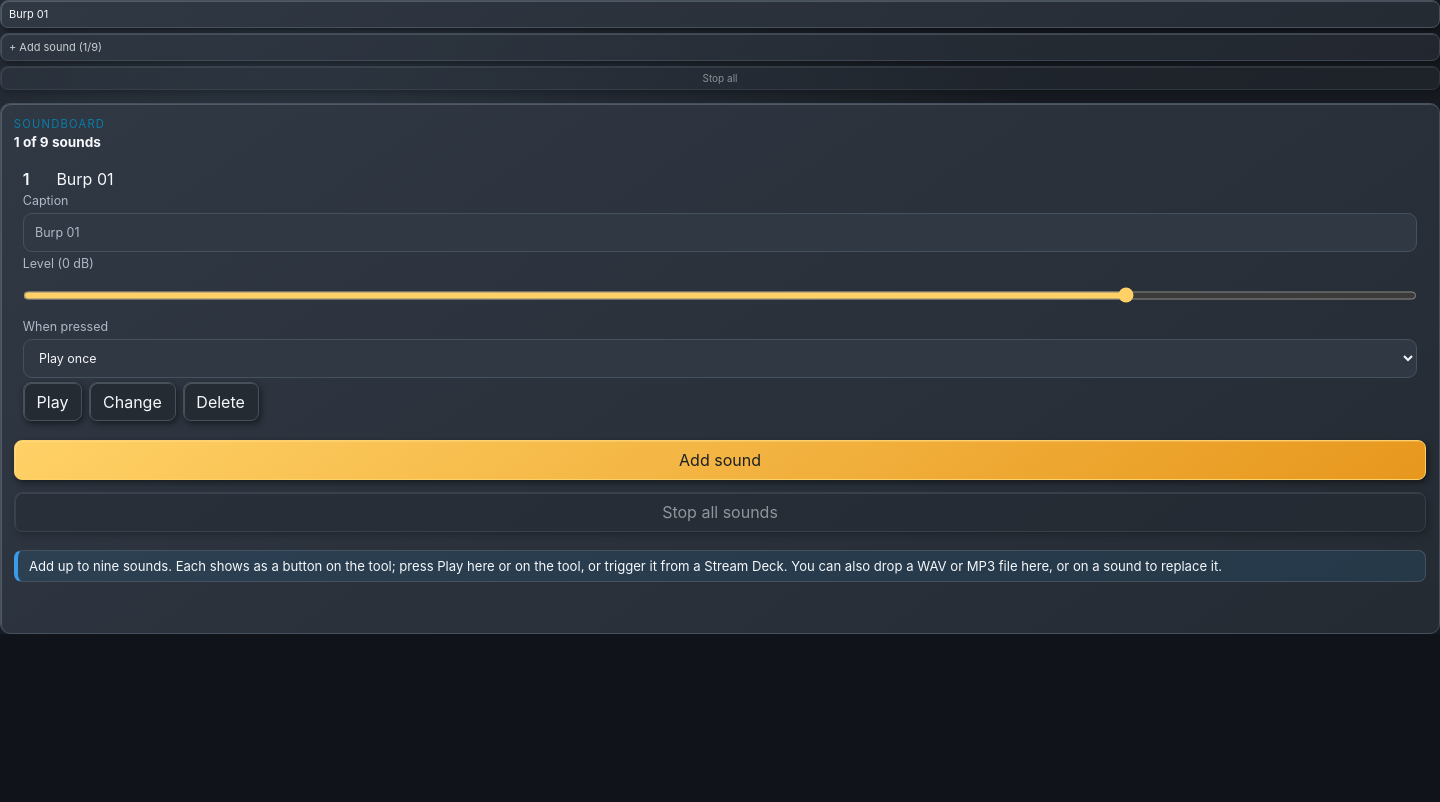
it: choosing and replacing sounds › Add puts a library sound on the first free slot with no caption
Click the button "Add sound" at (720, 460), box [14,440,1426,480]
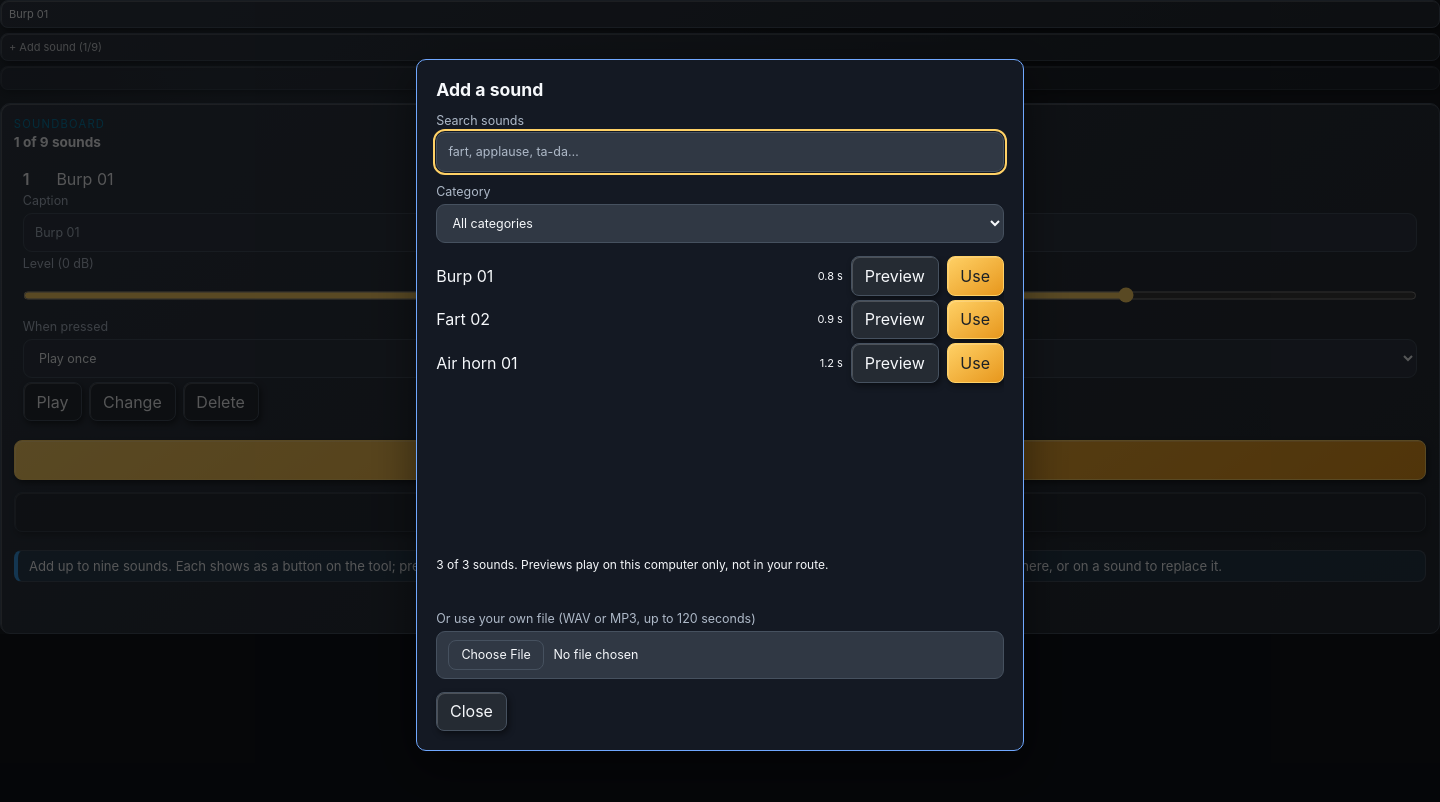
Click the button with aria-label "Use Fart 02" at (975, 320), box [946,300,1004,339]
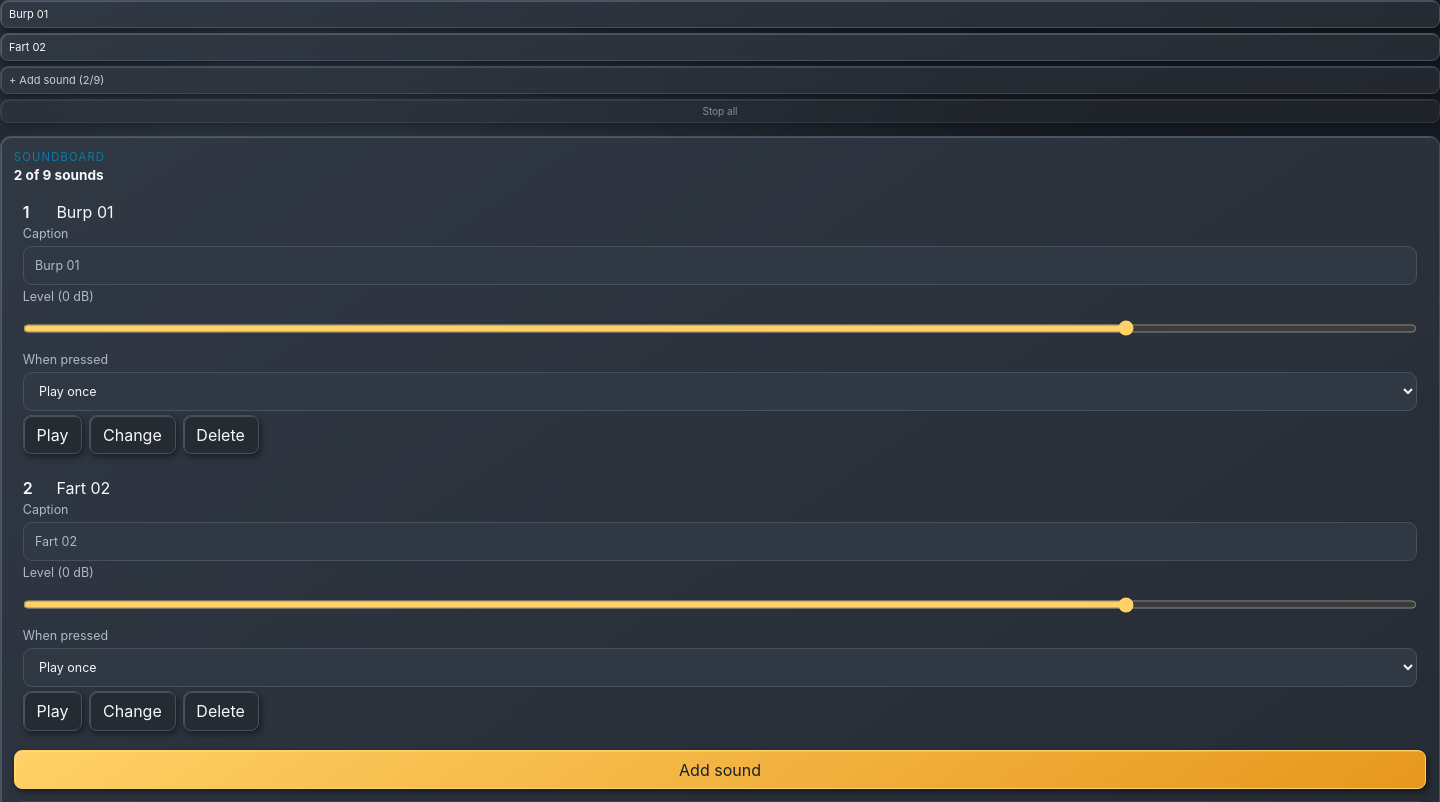
Check: the button with aria-label "Play Fart 02" is shown, box [0,33,1439,61]
